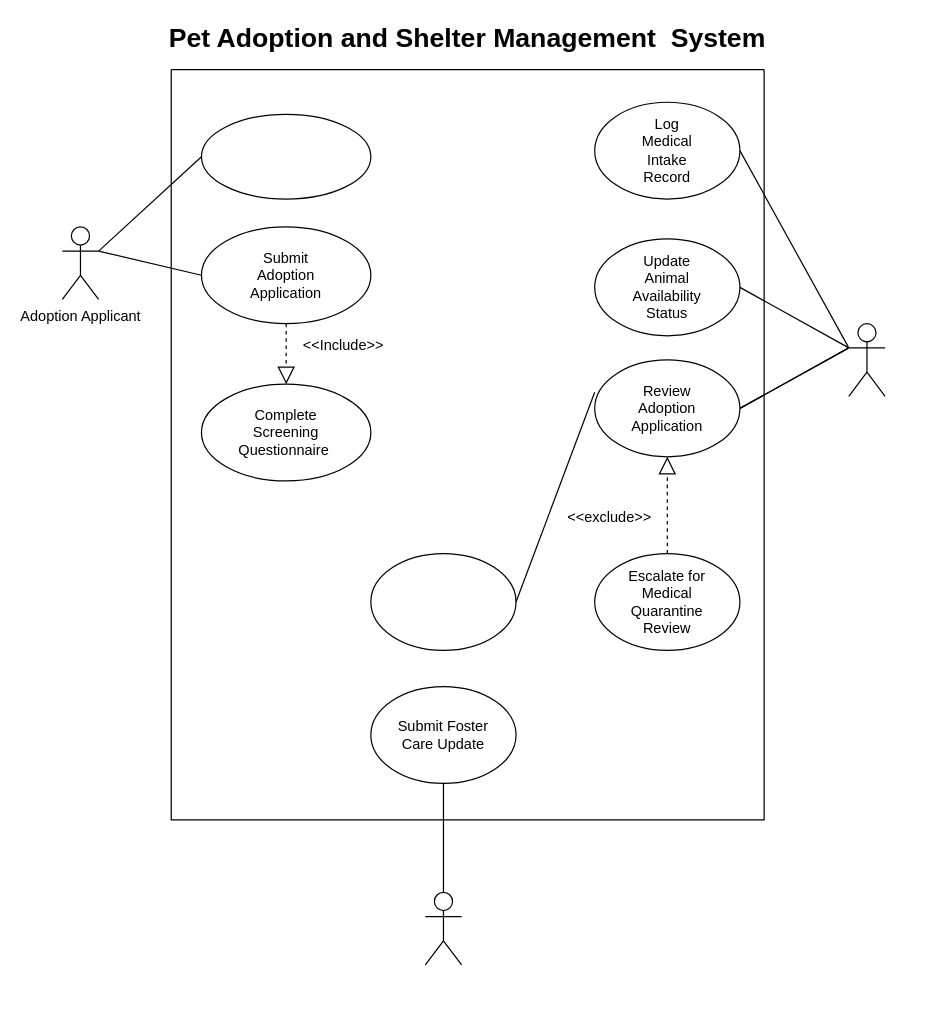
Some shapes in this 928 by 1010 pixel diagram are drawn without their labels. The centre of each missing label's shape, as x and y in pixels:
Assign Foster Placement: the point at 443,601
Foster Volunteer: the point at 443,928
Search Animal Catalog: the point at 285,156
Shelter Staff: the point at 866,359
